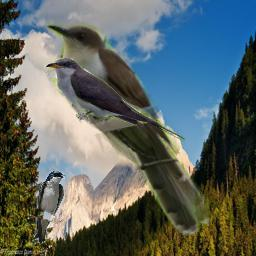Cuckoo: (44, 19, 210, 236), (44, 58, 185, 143)
Swallow: (34, 171, 65, 243)
